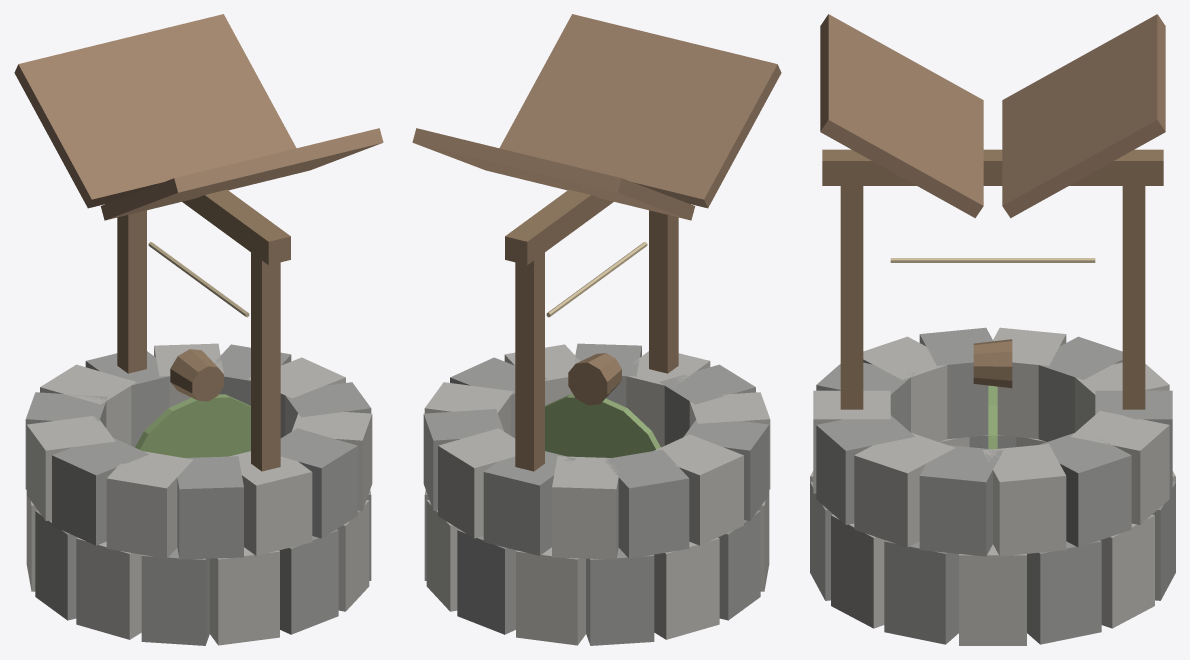
Rendered from stone_well.glb.
3 views of the same model, side by side, from view 1: azimuth 30°, elevation 25°; view 2: azimuth 150°, elevation 25°; view 3: azimuth 270°, elevation 25° (orthographic). The views are drawn at different scales.
Parts seen in each view (by area): view 1: stone_well; view 2: stone_well; view 3: stone_well.
Part boxes in pixels (box(x1,y1,x2,y2)): stone_well: box(14, 14, 383, 645); stone_well: box(412, 14, 781, 645); stone_well: box(810, 14, 1175, 645).
Size of the model in its own units: 1.61 by 2.44 by 1.61.
